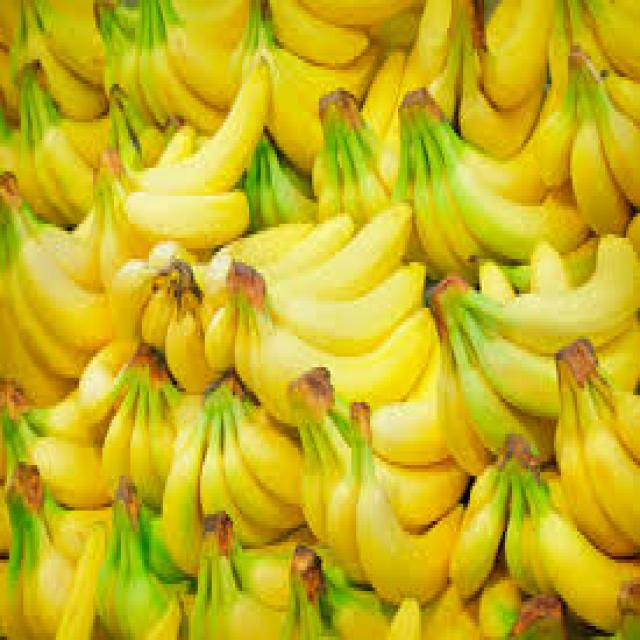Banana: (205, 201, 435, 420), (431, 244, 638, 472), (284, 364, 462, 608), (390, 91, 588, 278), (166, 368, 296, 554), (2, 172, 114, 374), (554, 336, 640, 552), (0, 461, 97, 640), (85, 333, 183, 502), (99, 479, 183, 640), (193, 514, 294, 636)
